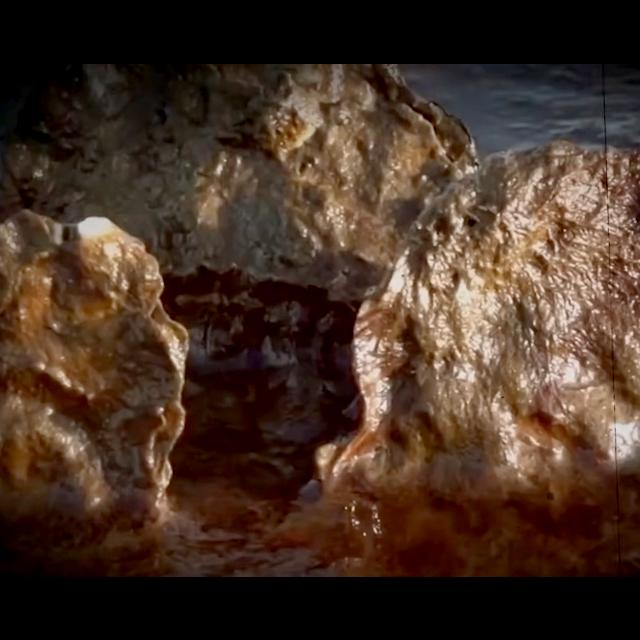Oyster-Closed: (0, 63, 478, 465), (312, 137, 640, 546), (0, 206, 190, 546)
